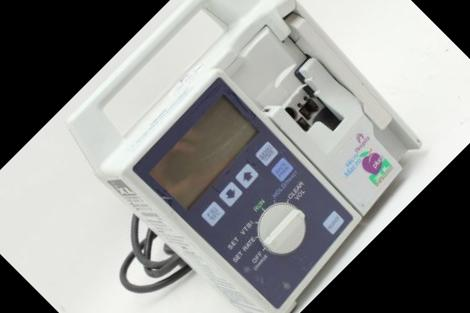plumxl1: (80, 16, 424, 293)
